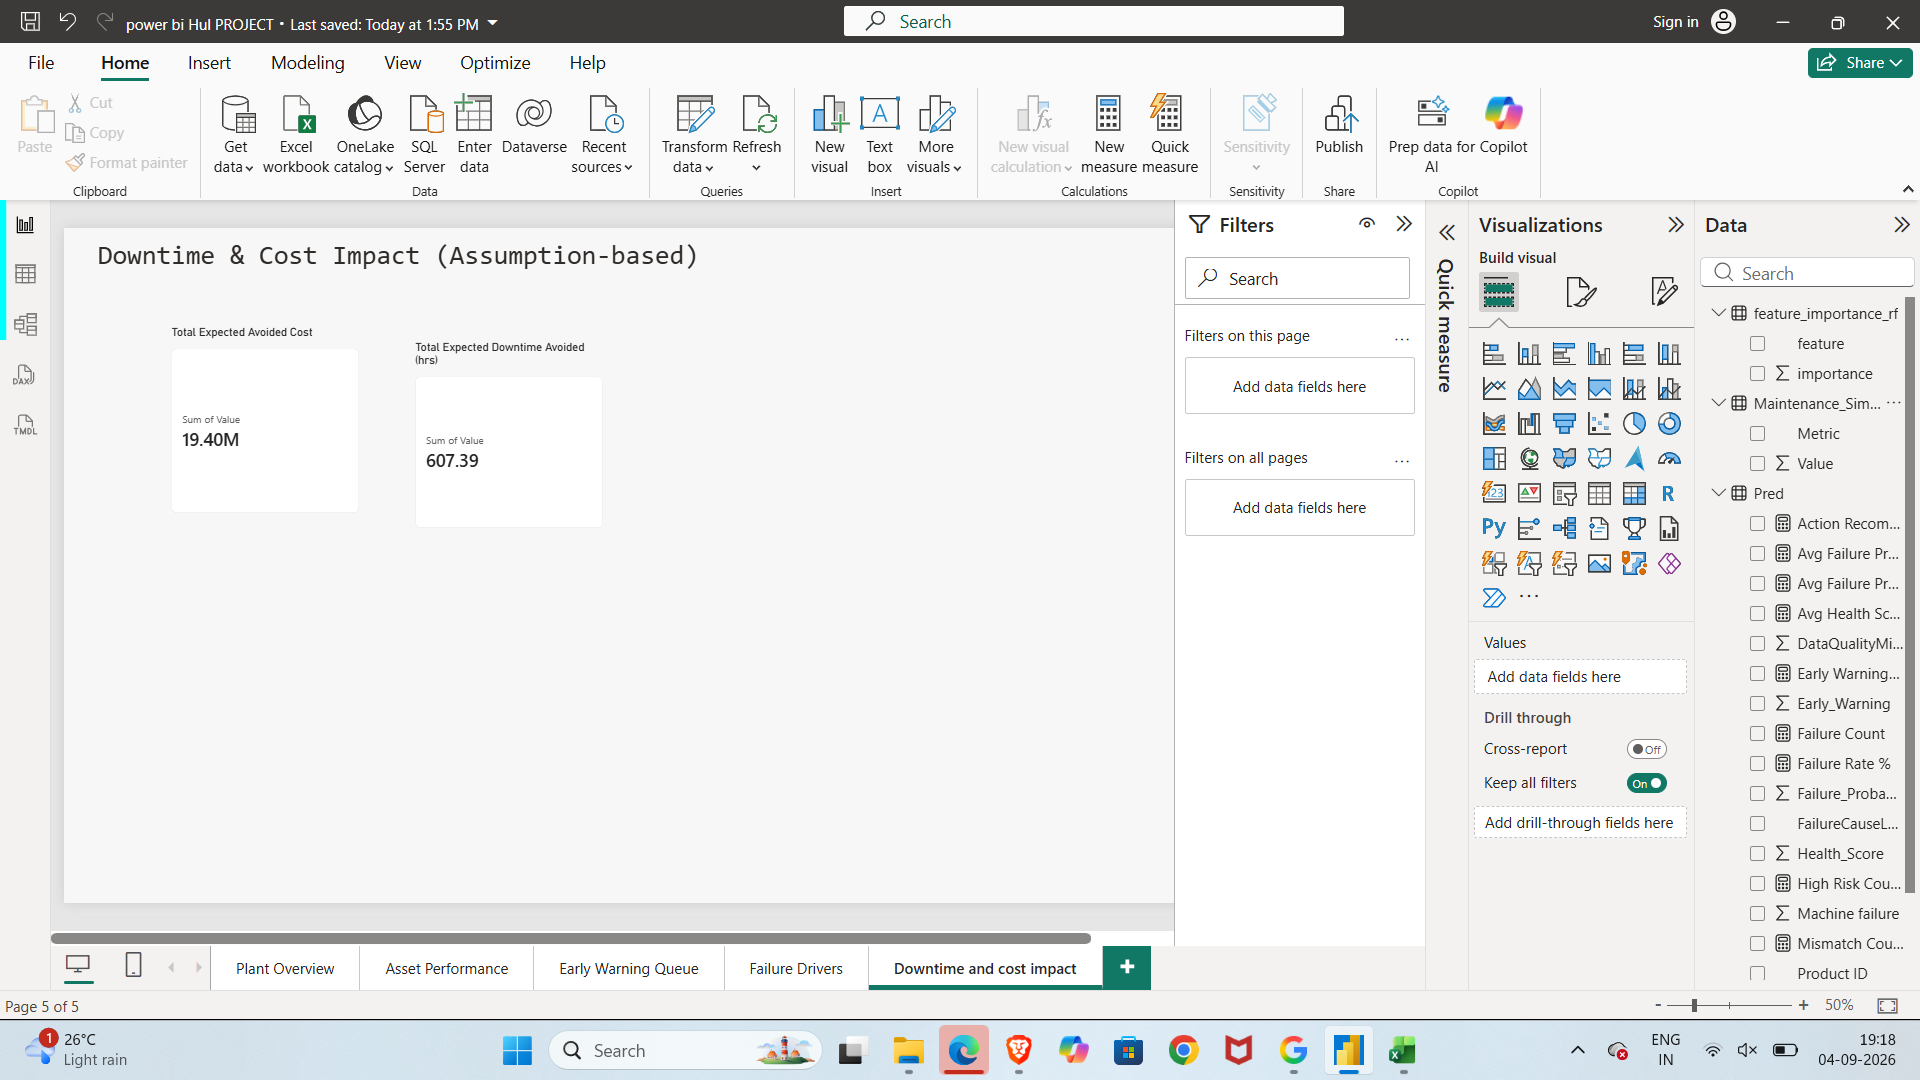

Layout of this report page (visuals, bound fields, positions):
{"tool":"powerbi","page":{"name":"Downtime and cost impact","canvas":[1920,1080],"ordinal":4},"visuals":[{"type":"textbox","box":[54.3,18.6,1185.7,75.7],"z":0},{"type":"cardVisual","title":"Total Expected Avoided Cost","fields":{"Data":["Sum(Maintenance_Simulation_FINAL xlsx.Value)"]},"box":[172.9,155.7,300,300],"z":1000},{"type":"cardVisual","title":"Total Expected Downtime Avoided (hrs)","fields":{"Data":["Sum(Maintenance_Simulation_FINAL xlsx.Value)"]},"box":[561.4,180,300,300],"z":1001}]}

Visuals, with their boxes on the page's 1920x1080 design canvas (x1, y1, x2, y2). These are canvas units, not pixel positions in the 1920x1080 screenshot, which may show the page scaled, cropped or inside an application window:
textbox: crop(54, 19, 1240, 94)
"Total Expected Avoided Cost" cardVisual: crop(173, 156, 473, 456)
"Total Expected Downtime Avoided (hrs)" cardVisual: crop(561, 180, 861, 480)
